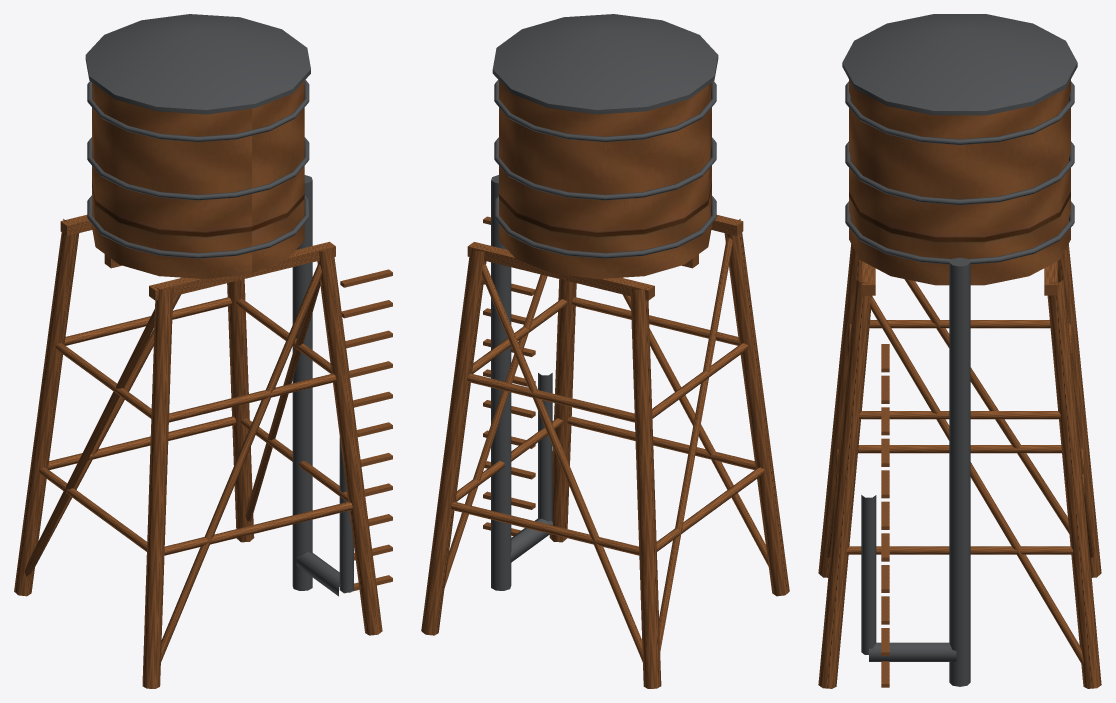
Rendered from watertower.glb.
3 views of the same model, side by side, from view 1: azimuth 30°, elevation 25°; view 2: azimuth 150°, elevation 25°; view 3: azimuth 270°, elevation 25° (orthographic). The views are drawn at different scales.
Parts seen in each view (by area): view 1: timber-water-tower; view 2: timber-water-tower; view 3: timber-water-tower.
Boxes of the visible parts, x1=… form: timber-water-tower: x1=14, y1=14, x2=392, y2=688; timber-water-tower: x1=421, y1=14, x2=789, y2=688; timber-water-tower: x1=818, y1=14, x2=1101, y2=688.
Size of the model in its own units: 3.95 by 8.01 by 3.42.
Materials: 2 (1 with a texture image).
